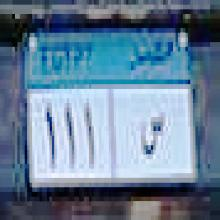1: (82, 103, 96, 164), (46, 102, 56, 168), (65, 103, 74, 170)
seen: (140, 112, 168, 159)
